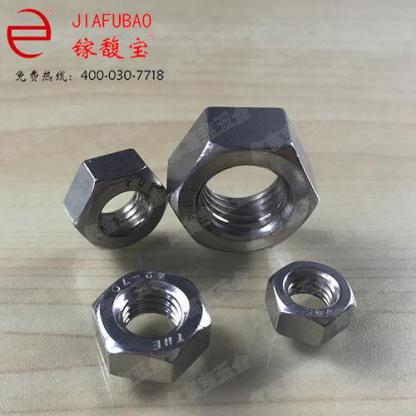FOD: (167, 100, 324, 256), (91, 265, 214, 388), (61, 144, 169, 251), (266, 259, 358, 345)
